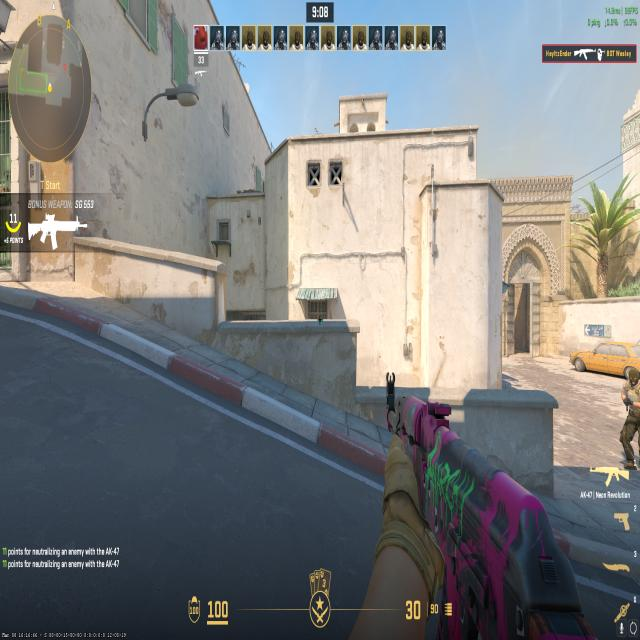t: (614, 361, 640, 467)
